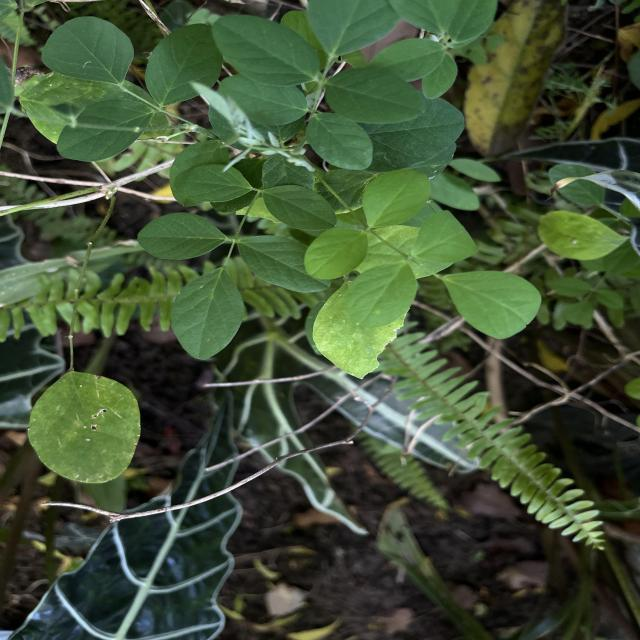Clitoria ternatea: (210, 14, 322, 88), (168, 268, 247, 362), (143, 22, 224, 108), (40, 15, 136, 86), (323, 67, 427, 126), (136, 211, 226, 261), (304, 112, 376, 172), (260, 183, 338, 233), (303, 226, 370, 282), (173, 163, 253, 203)
